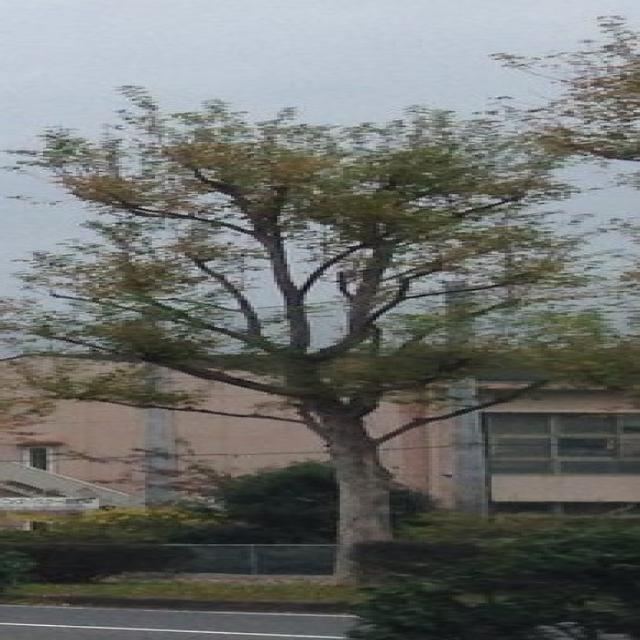maple: (0, 84, 640, 587)
